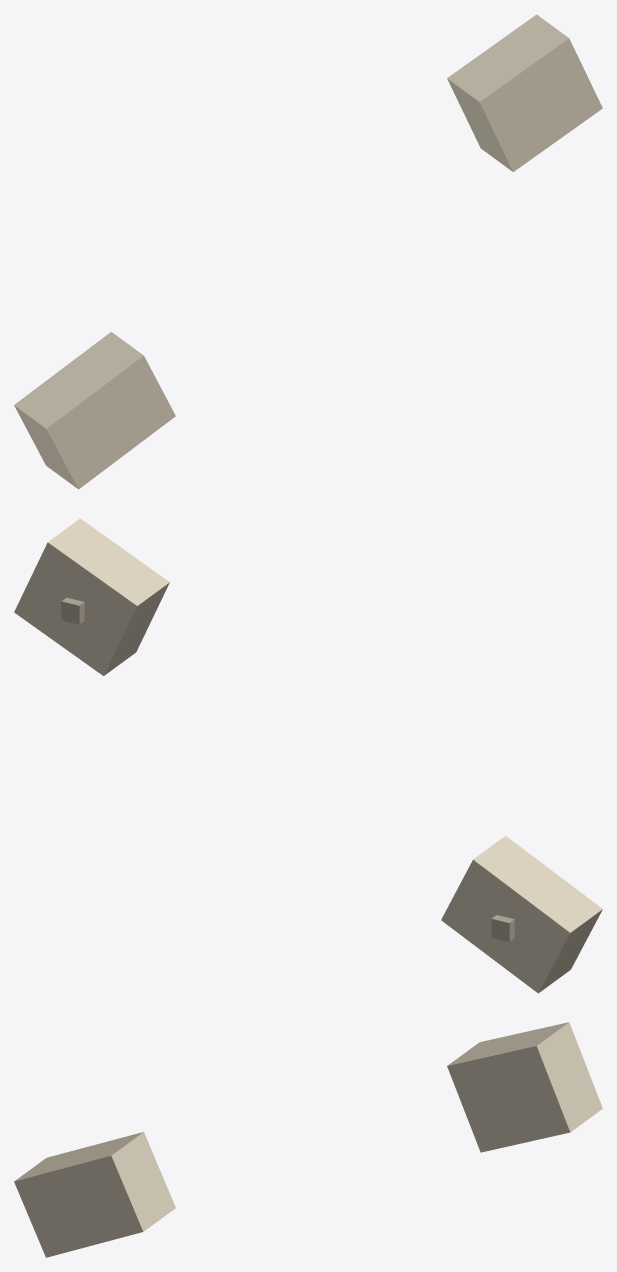
Rendered from historic-palestine-10_22_3521_3161.glb.
3 renders of one model, top to bottom at view 1: azimuth 30°, elevation 25°; view 2: azimuth 150°, elevation 25°; view 3: azimuth 330°, elevation 25°, orthographic.
Visible parts, largest first — view 1: Building_.001, Building_; view 2: Building_.001, Building_; view 3: Building_, Building_.001.
Boxes of the visible parts, x1,y1,x2,y2 form: Building_.001: (14,332,175,489); Building_: (447,14,602,171); Building_.001: (441,836,602,993); Building_: (14,518,169,675); Building_: (447,1022,602,1152); Building_.001: (14,1132,175,1257).
Bounding box in the file's own units: 73.89 × 42.08 × 8.7.
